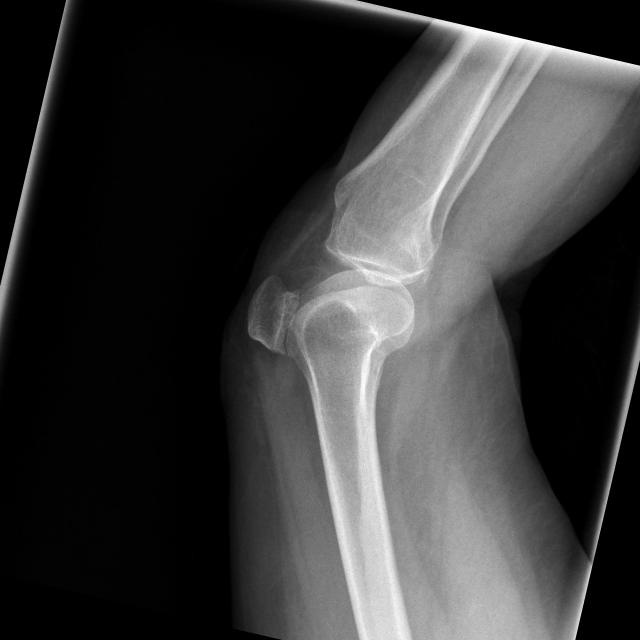Knee: (237, 193, 442, 388)
